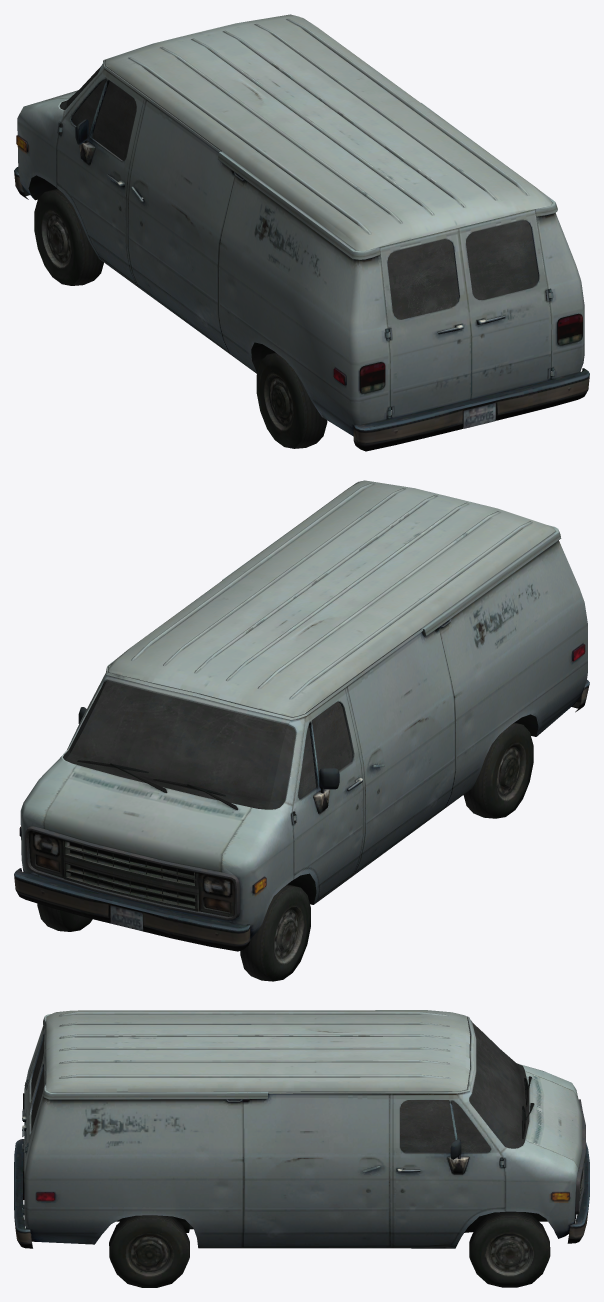
Rendered from van.FBX.
3 renders of one model, top to bottom at view 1: azimuth 30°, elevation 25°; view 2: azimuth 150°, elevation 25°; view 3: azimuth 270°, elevation 25°, orthographic. The views are drawn at different scales.
Visible parts, largest first — view 1: Van; view 2: Van; view 3: Van.
Boxes of the visible parts, x1,y1,x2,y2 form: Van: (14, 14, 589, 451); Van: (14, 480, 589, 981); Van: (14, 1010, 589, 1287).
Bounding box in the file's own units: 97.75 × 90.5 × 232.
3 materials, 3 textured.
